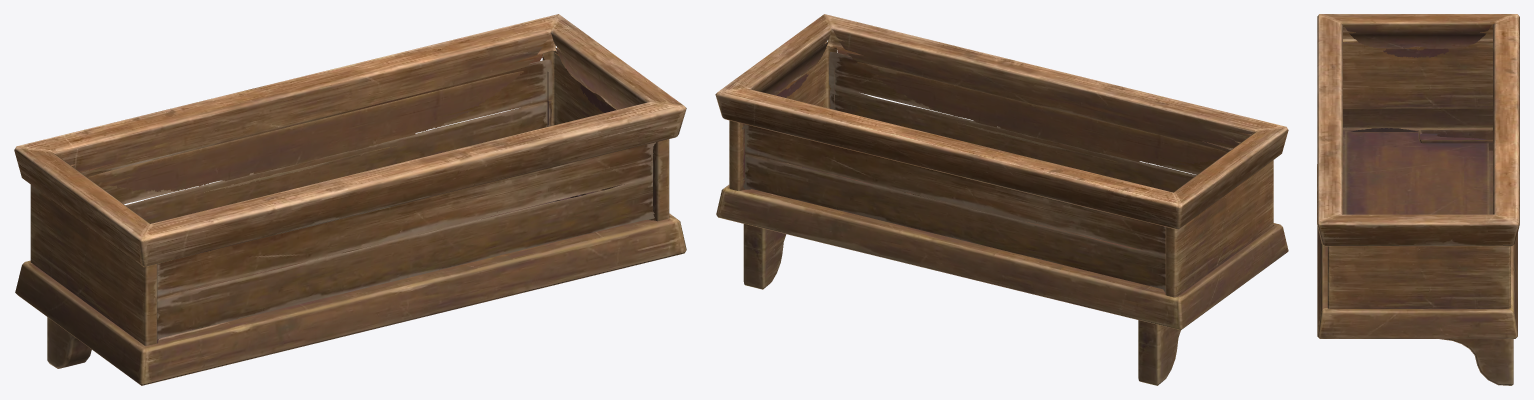
The picture shows the model from 3 angles, left to right: view 1: azimuth 30°, elevation 25°; view 2: azimuth 150°, elevation 25°; view 3: azimuth 270°, elevation 25°; orthographic projection. The views are drawn at different scales.
Visible parts, largest first — view 1: SM_Window_Box_01v2_LOD0; view 2: SM_Window_Box_01v2_LOD0; view 3: SM_Window_Box_01v2_LOD0.
Boxes of the visible parts, x1,y1,x2,y2 form: SM_Window_Box_01v2_LOD0: [14, 14, 686, 385]; SM_Window_Box_01v2_LOD0: [715, 14, 1288, 385]; SM_Window_Box_01v2_LOD0: [1317, 14, 1519, 385].
Size of the model in its own units: 1.41 by 0.546 by 0.5738.
1 material, 1 textured.
